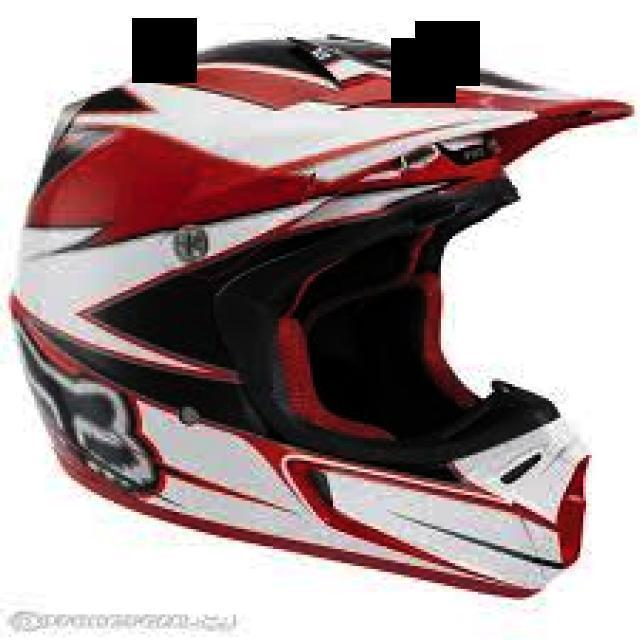helmet: (7, 26, 635, 599)
